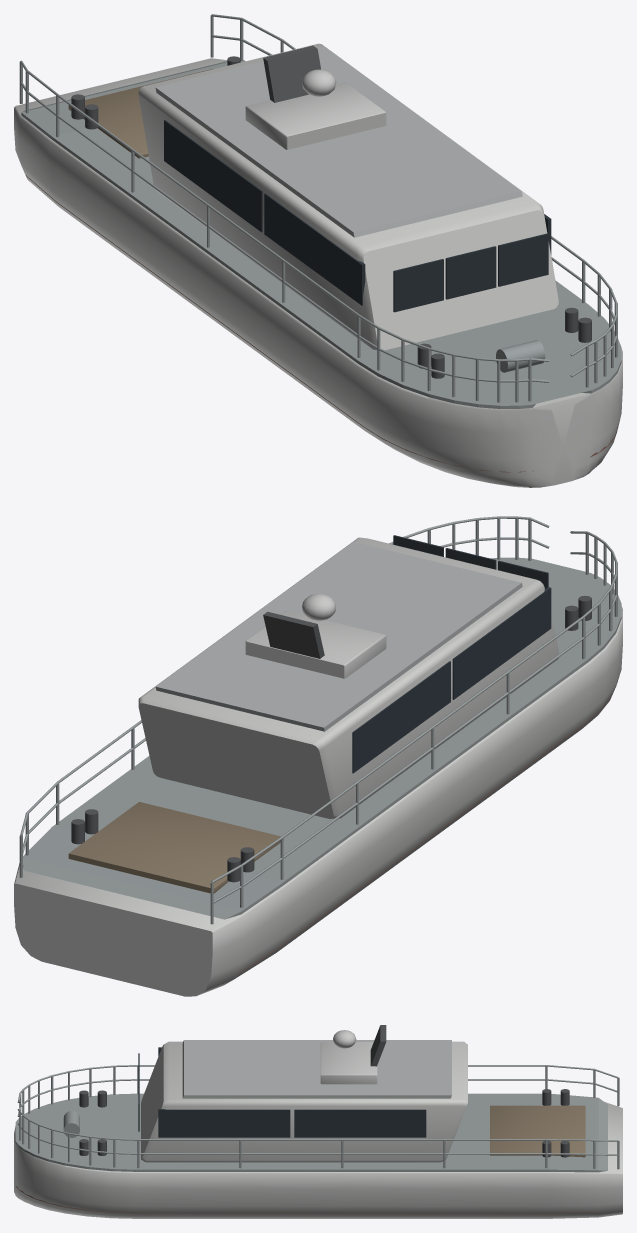
Rendered from vessel-motor.glb.
The picture shows the model from 3 angles, top to bottom: view 1: azimuth 30°, elevation 25°; view 2: azimuth 150°, elevation 25°; view 3: azimuth 270°, elevation 25°; orthographic projection. The views are drawn at different scales.
Visible parts, largest first — view 1: vessel-motor; view 2: vessel-motor; view 3: vessel-motor.
Part boxes in pixels (box(x1,y1,x2,y2)): vessel-motor: box(14, 14, 622, 487); vessel-motor: box(14, 516, 622, 996); vessel-motor: box(14, 1025, 622, 1218).
Size of the model in its own units: 4.2 by 4 by 14.
